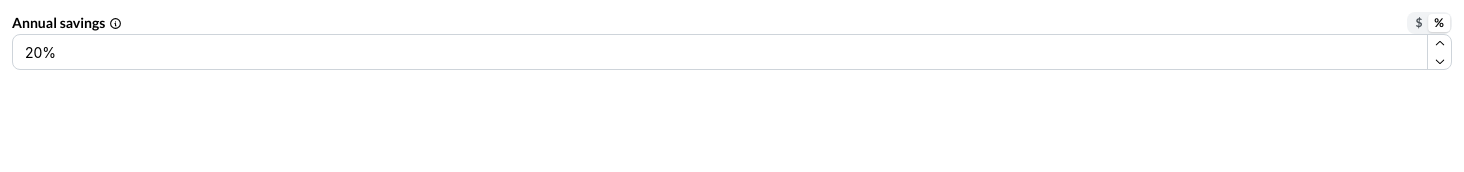
Test: UserInputFormItem › keeps the field label associated with the input when switching units
The image size is (1464, 172).
Expected: the field labelled "Annual savings" holds "20%", [12, 34, 1452, 70]
Click the radio button labelled "$". click: (1419, 22)
box: [1415, 15, 1422, 30]
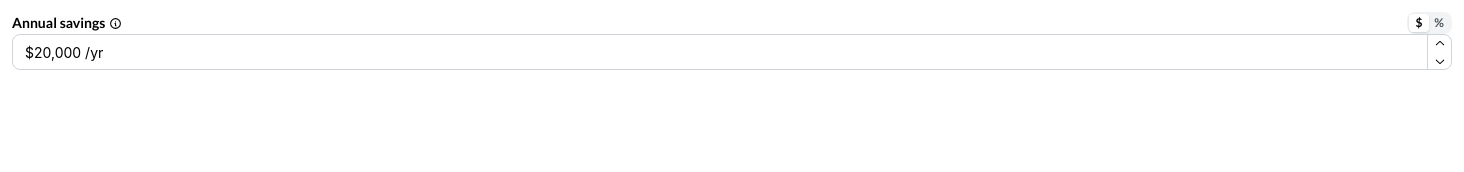
Expected: the field labelled "Annual savings" holds "$20,000 /yr", [12, 34, 1452, 70]
